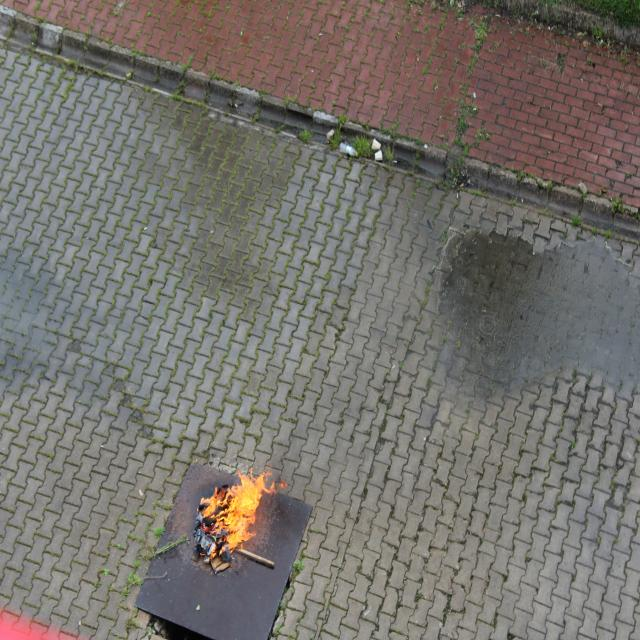fire: (210, 456, 282, 555)
